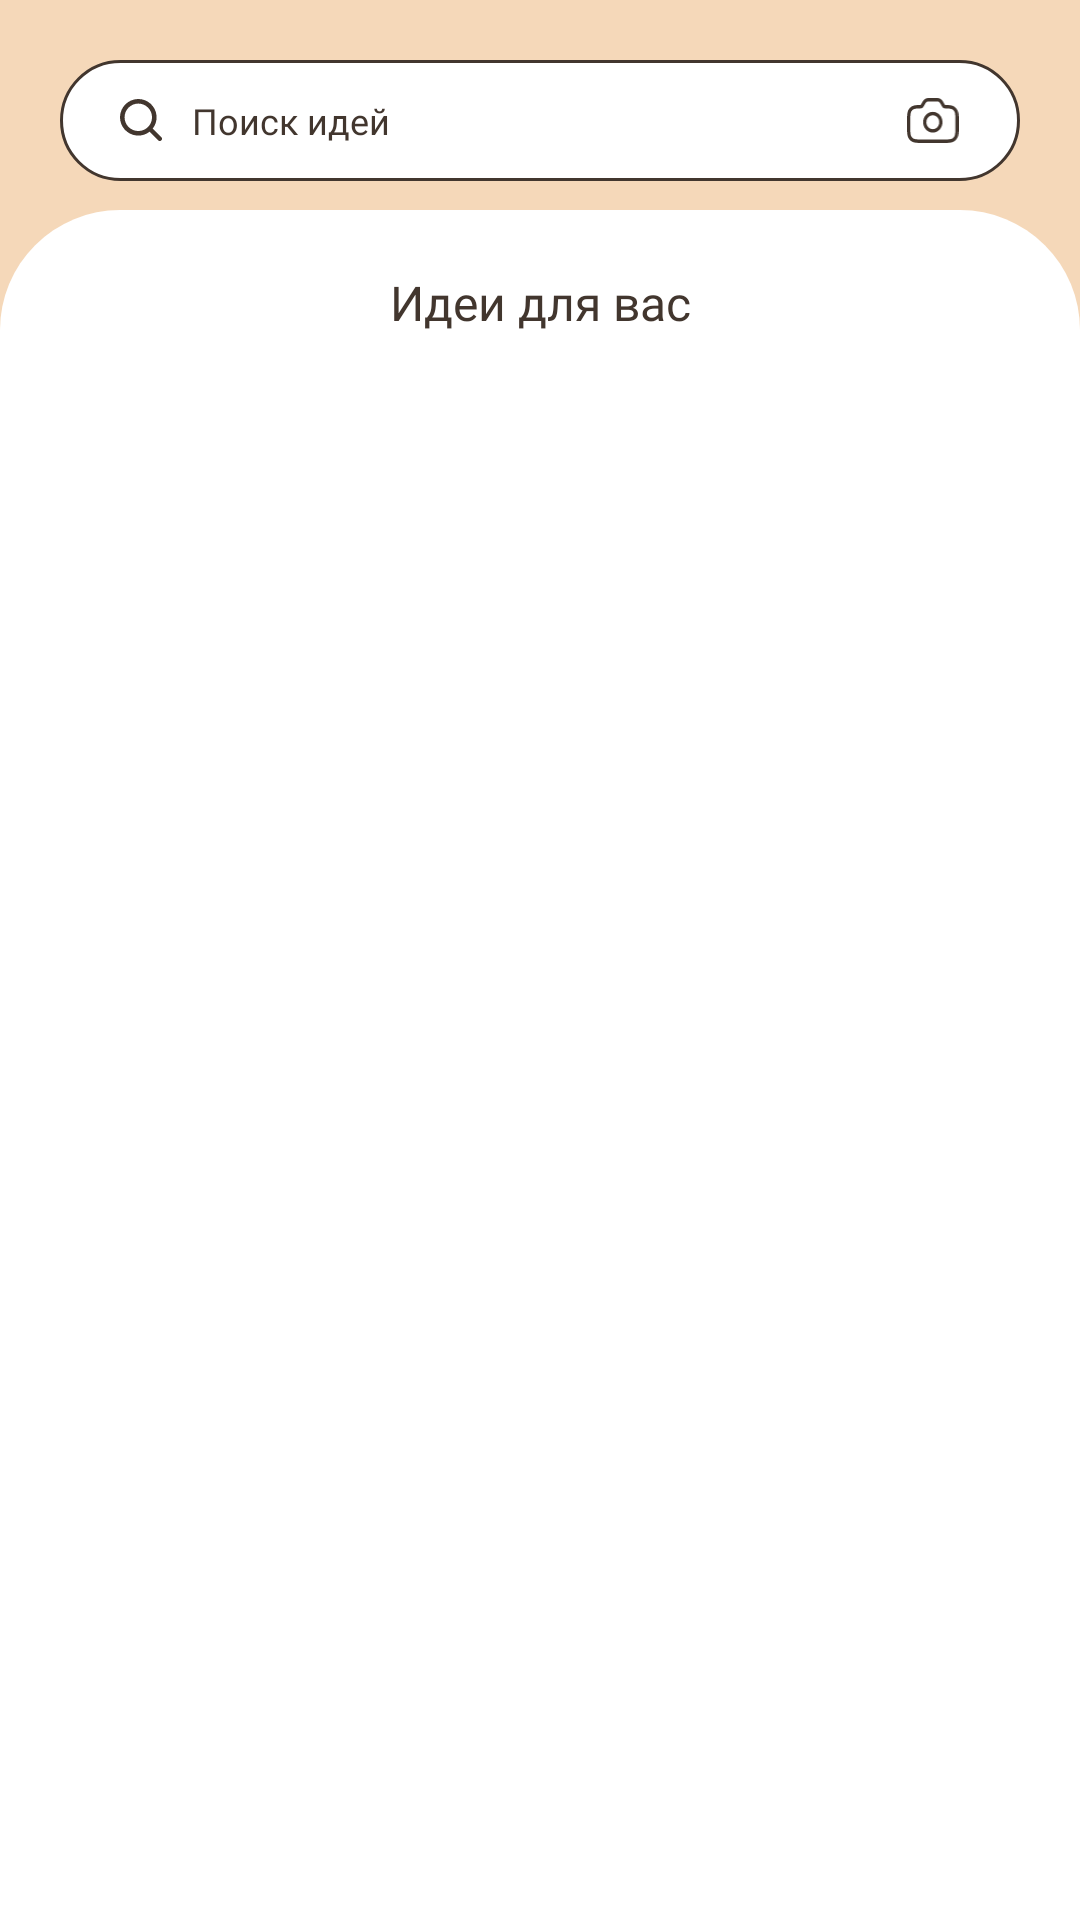

Named icons in this screenshot (1080px x 1920px) and their centers, (x=x, y=y):
search: (x=141, y=120)
Камера: (x=933, y=120)
